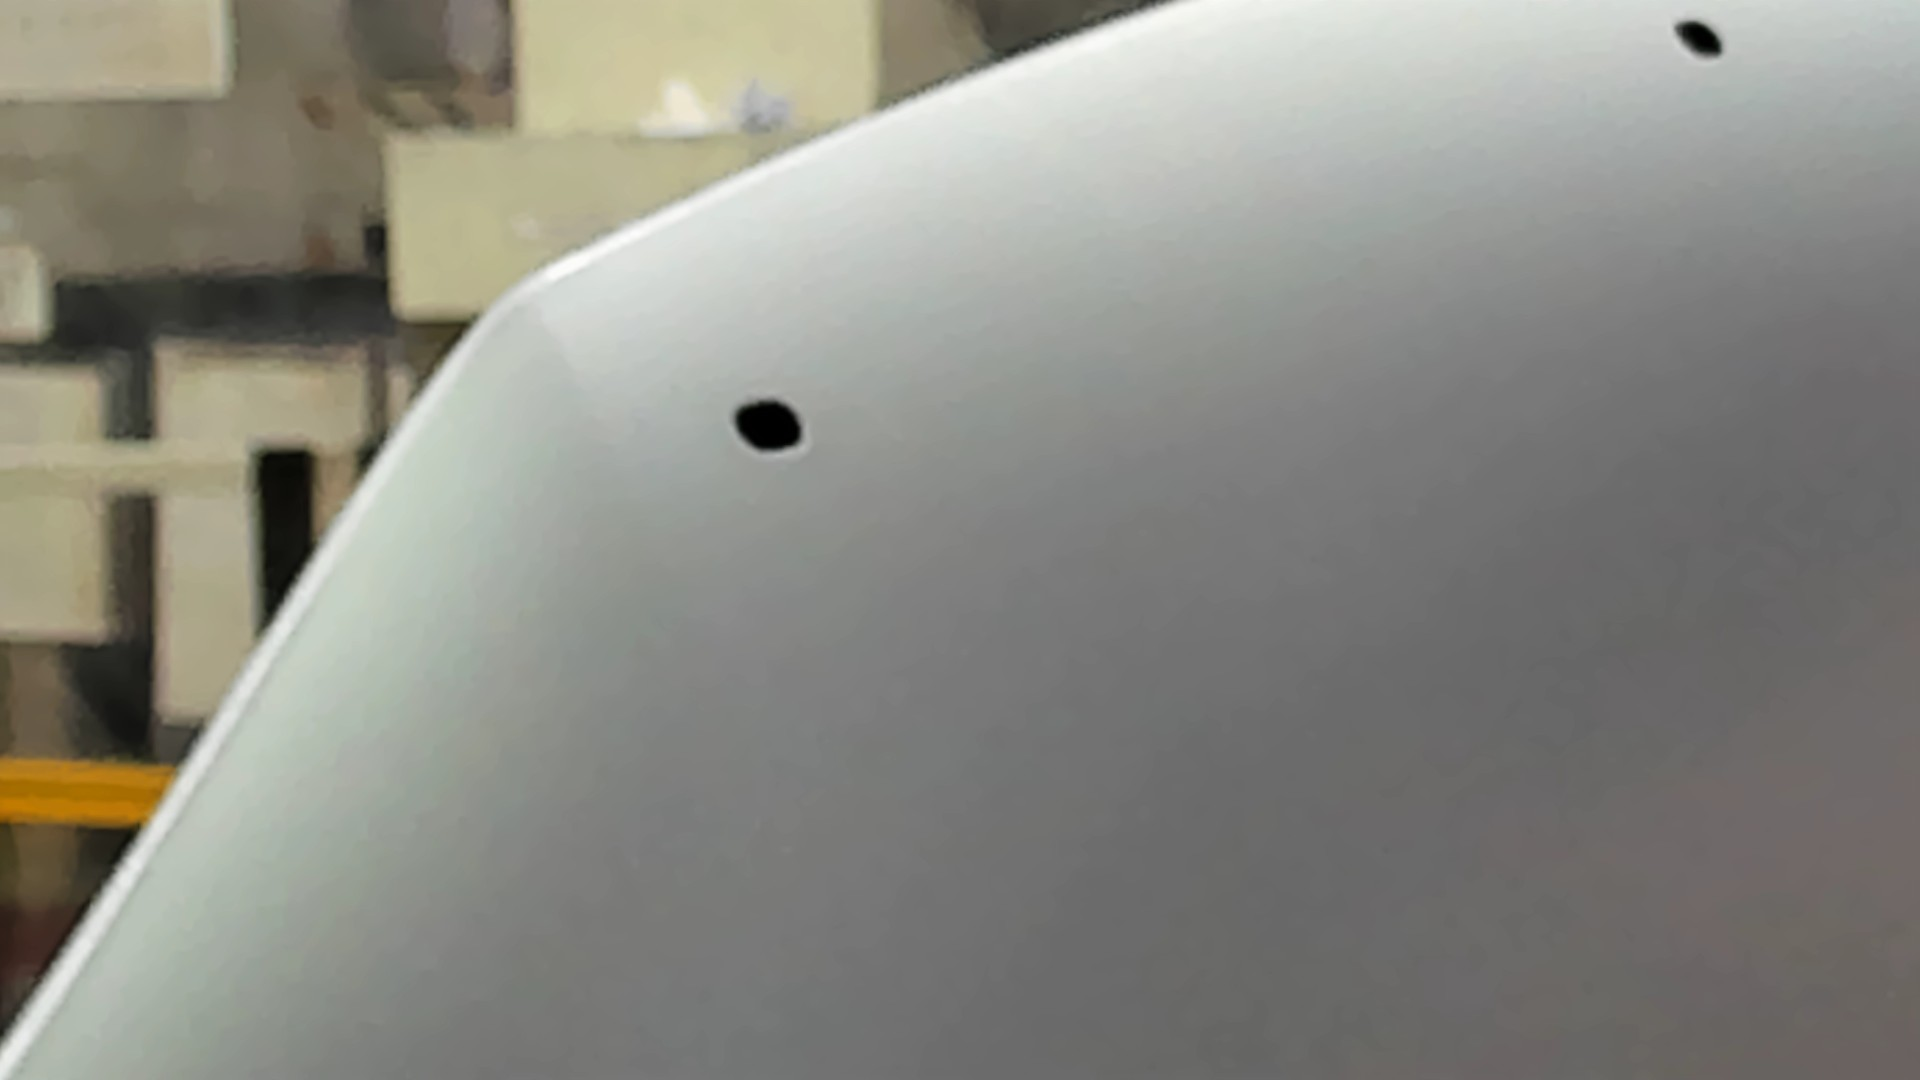amorfo: (729, 396, 811, 458), (1668, 18, 1727, 69)
